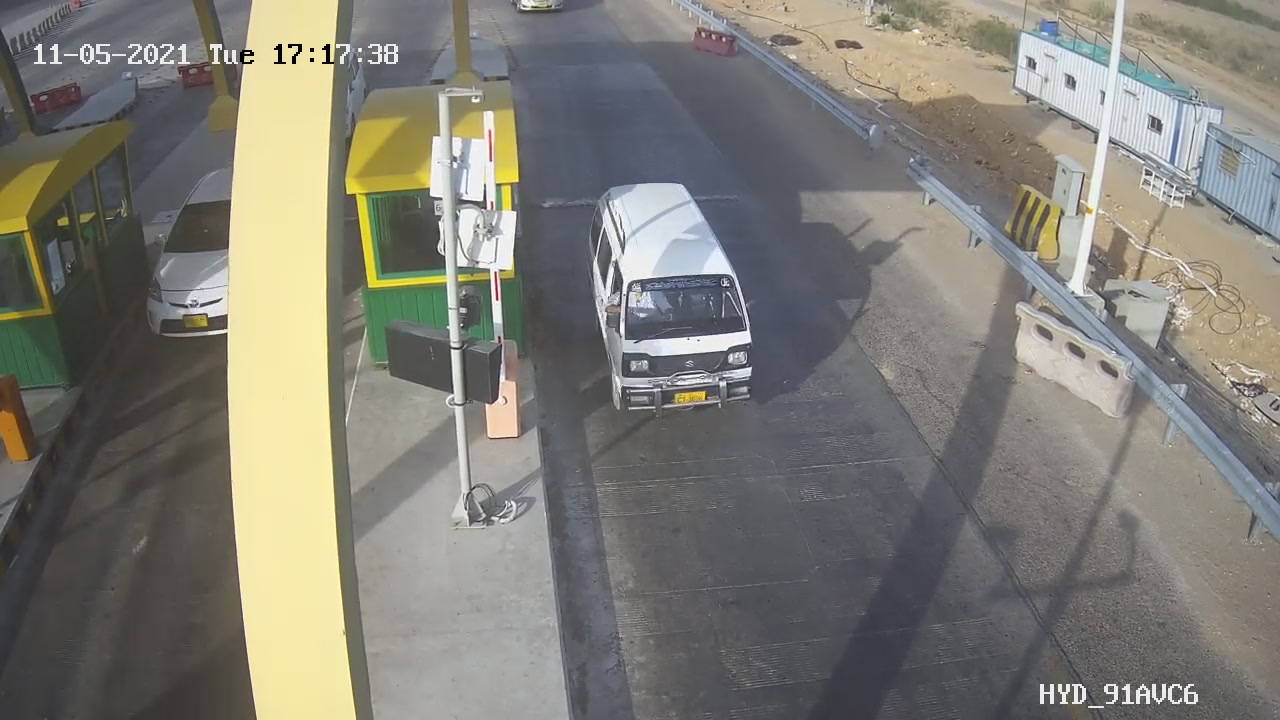F1: (569, 168, 766, 433)
